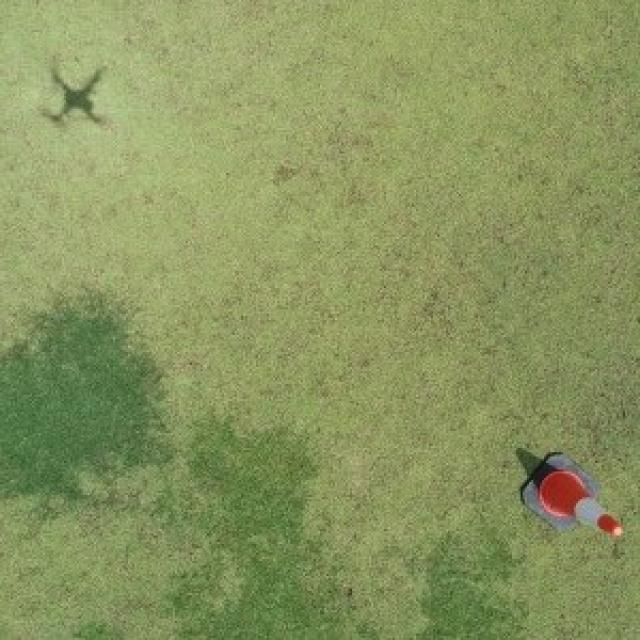Traffic Cone: (518, 448, 624, 537)
